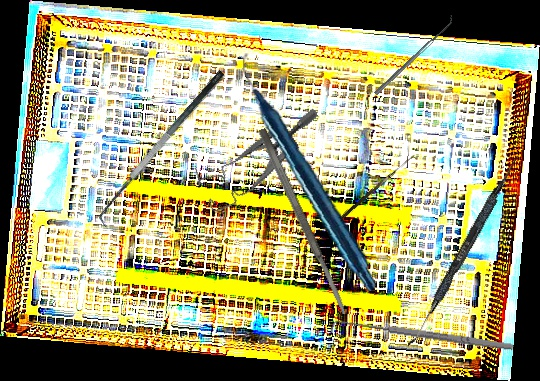Handpiece: (220, 52, 399, 292)
Hook Surgical: (328, 315, 516, 359), (326, 150, 416, 232)
Spatula Surgical: (89, 69, 238, 230), (407, 153, 520, 351), (256, 126, 350, 317), (371, 14, 457, 96)
Speculum: (187, 106, 338, 215)
